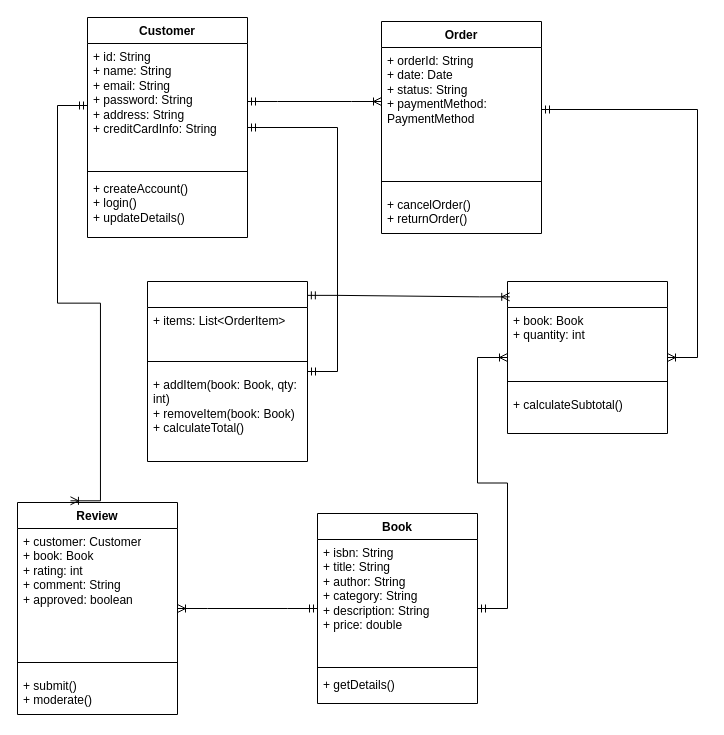
Image size: 724x735. Some labels were removed from this diagram. Each missing label, with the box of its shape:
Cart: (146, 280, 308, 462)
OrderItem: (506, 280, 668, 434)
